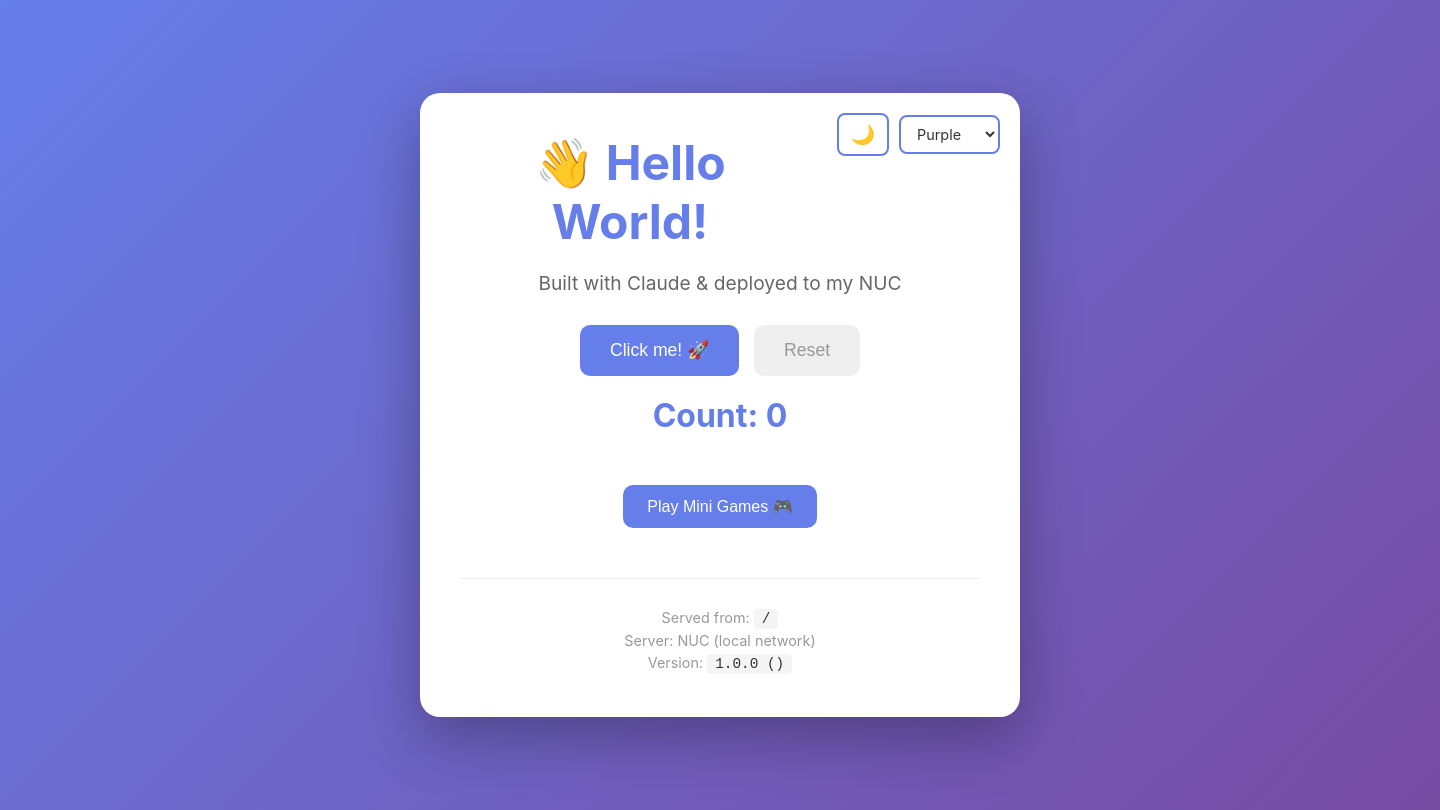
Test case: App › resets counter when reset button is clicked
# Increment counter first
Step 1. Click the button with aria-label "increment counter" → [660, 350], box left=580, top=325, right=739, bottom=376
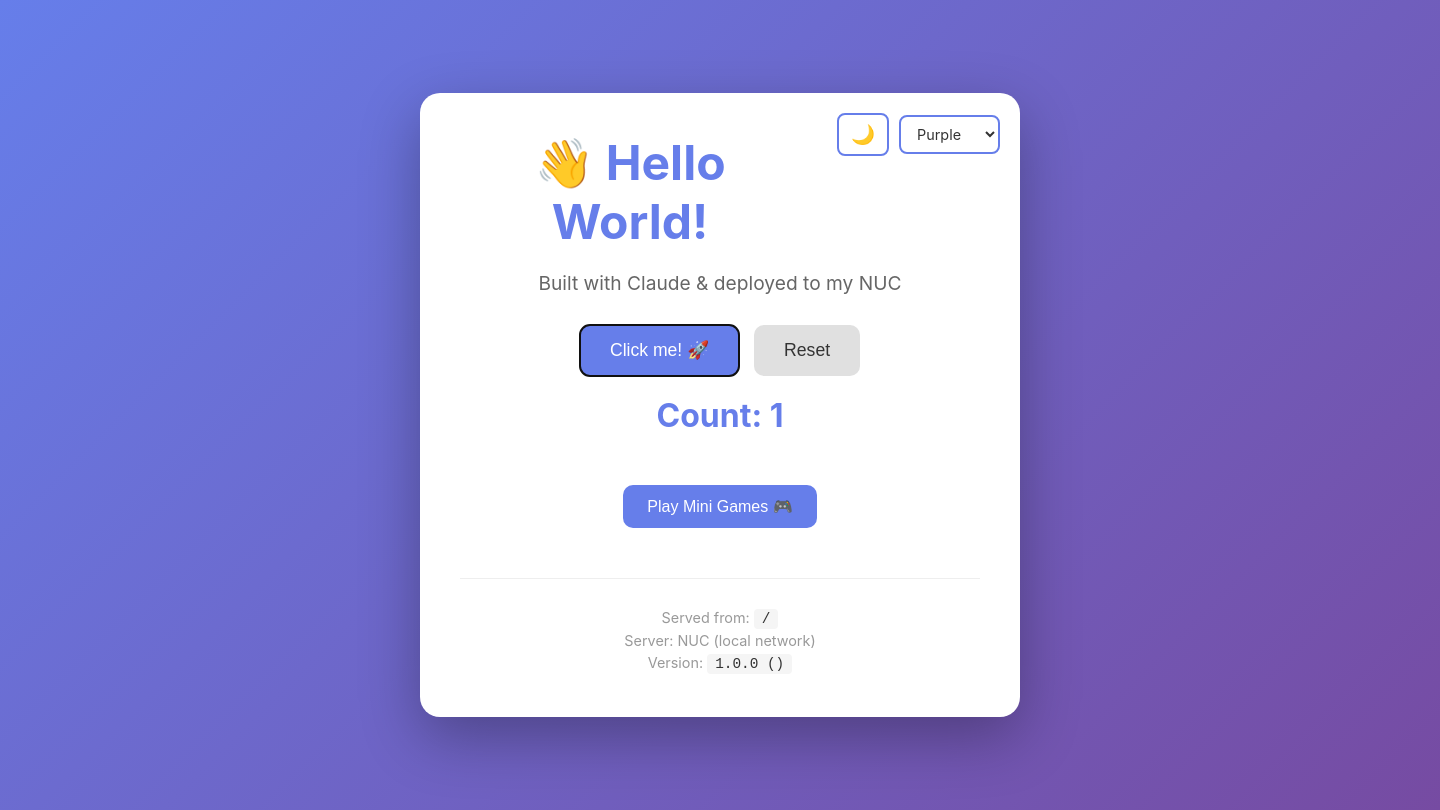
Step 2. Click the button with aria-label "increment counter" → [660, 350], box left=580, top=325, right=739, bottom=376
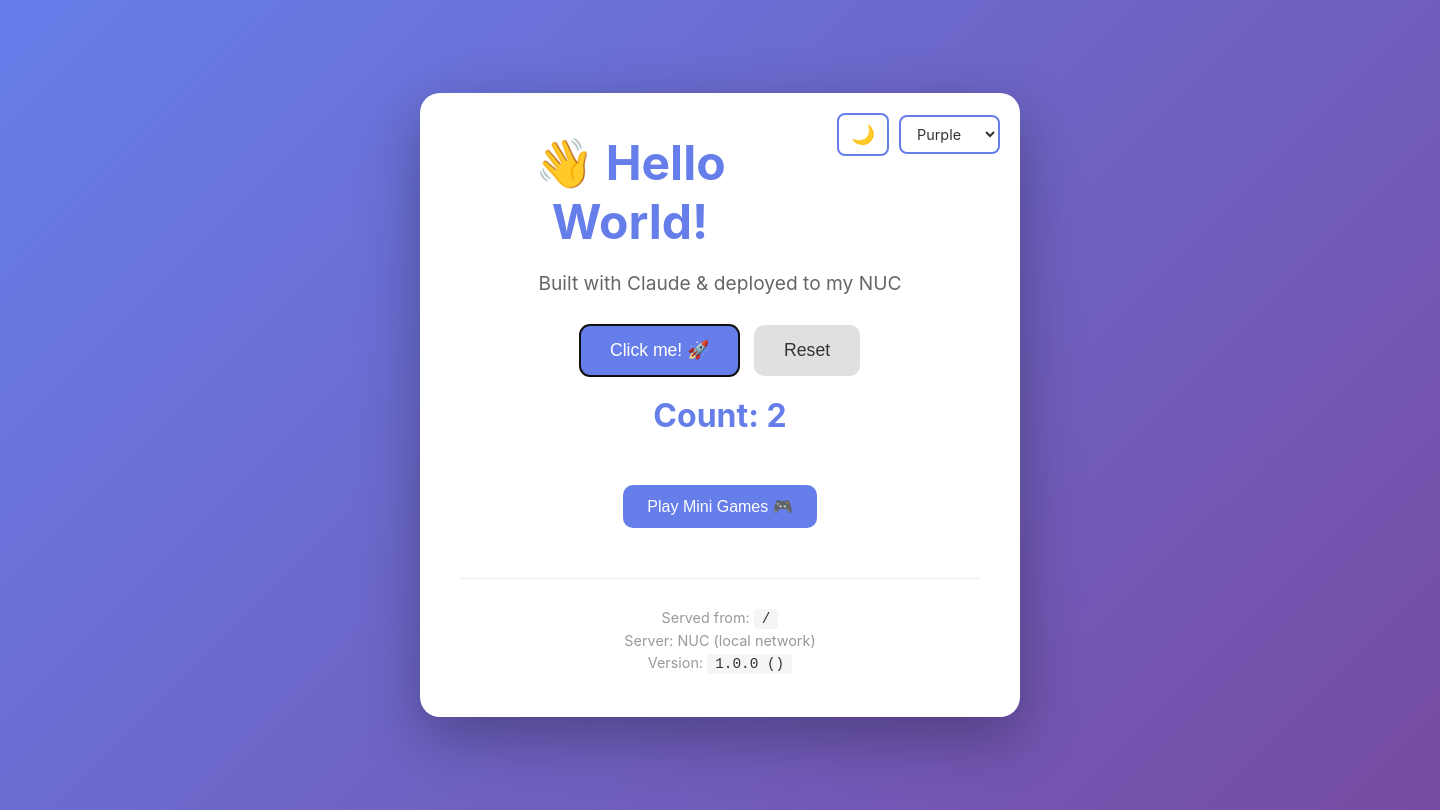
Result: the text "Count: 2" is shown at left=653, top=396, right=787, bottom=435
# Then reset
Step 3. Click the button with aria-label "reset counter" → [807, 350], box left=754, top=325, right=860, bottom=376
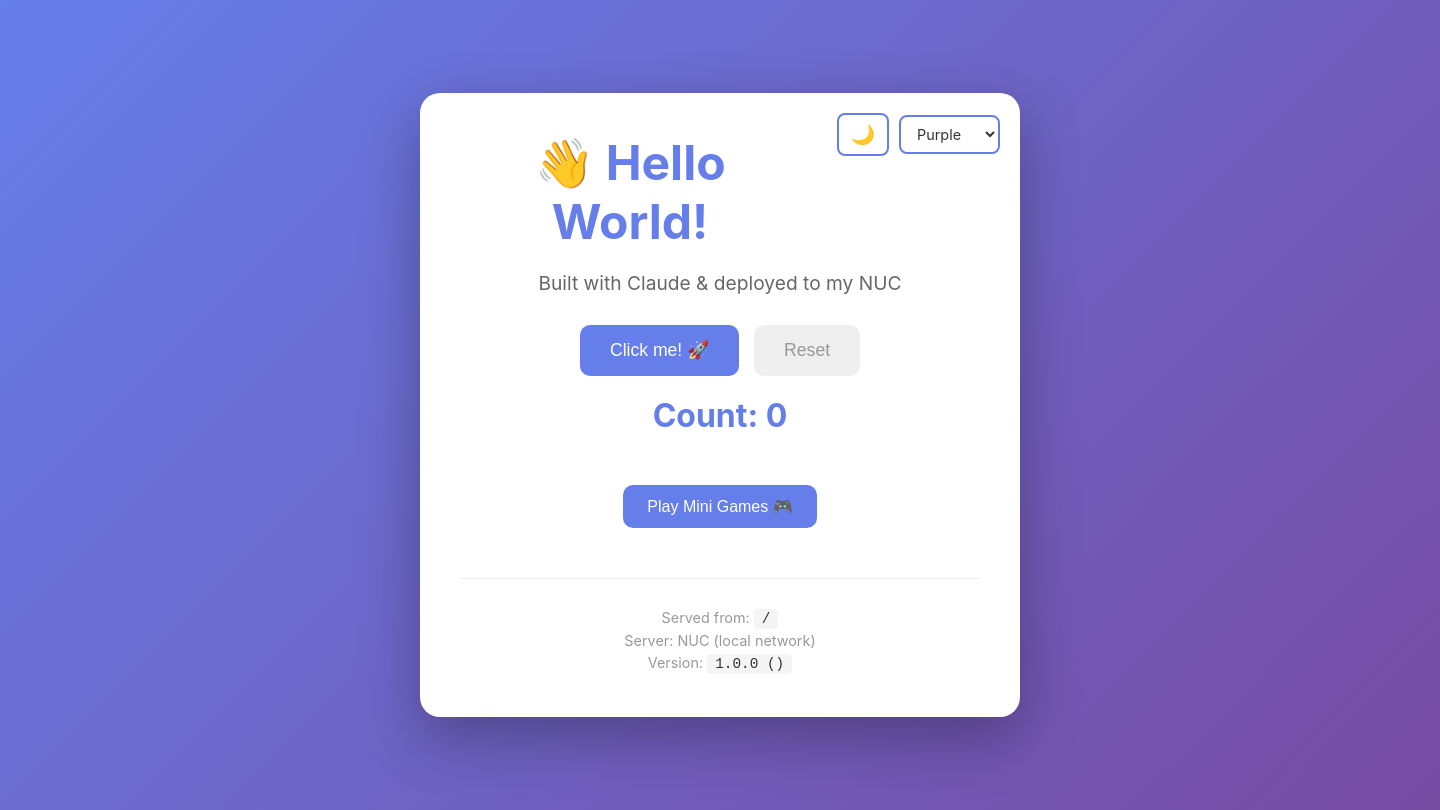
Result: the text "Count: 0" is shown at left=653, top=396, right=787, bottom=435
